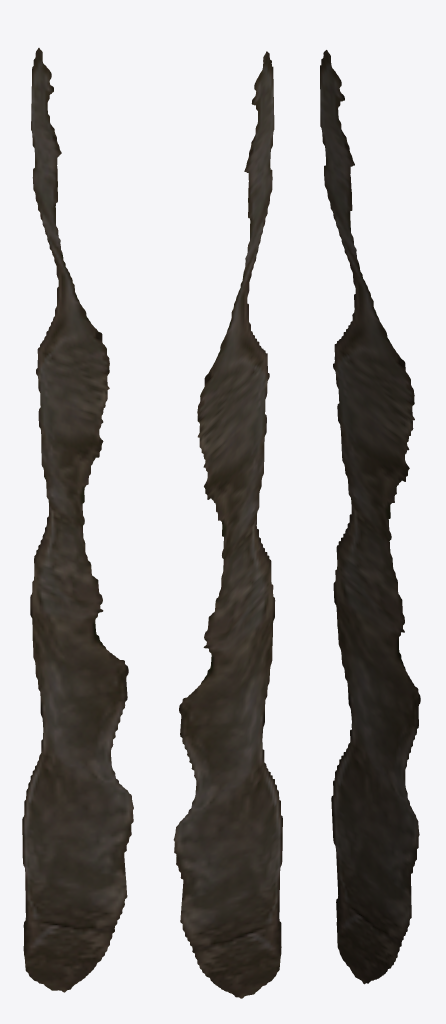
Rendered from TI_Old_Foliage_07.fbx.
3 views of the same model, side by side, from view 1: azimuth 30°, elevation 25°; view 2: azimuth 210°, elevation 25°; view 3: azimuth 330°, elevation 25° (orthographic). The views are drawn at different scales.
Parts seen in each view (by area): view 1: TI_Old_Foliage_07; view 2: TI_Old_Foliage_07; view 3: TI_Old_Foliage_07.
Part boxes in pixels (x1=…): TI_Old_Foliage_07: x1=22, y1=48, x2=133, y2=992; TI_Old_Foliage_07: x1=173, y1=51, x2=282, y2=998; TI_Old_Foliage_07: x1=320, y1=50, x2=420, y2=984.
Size of the model in its own units: 0.0941 by 0.8272 by 0.0253.
